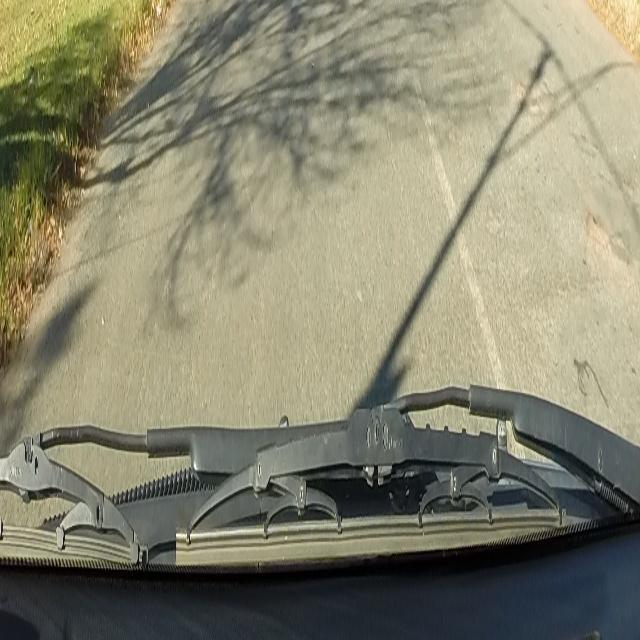pothole: (586, 210, 606, 250)
